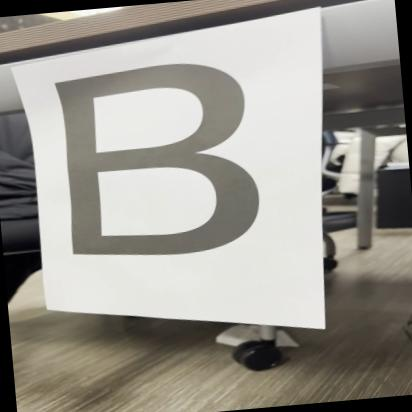seat: (22, 46, 289, 280)
